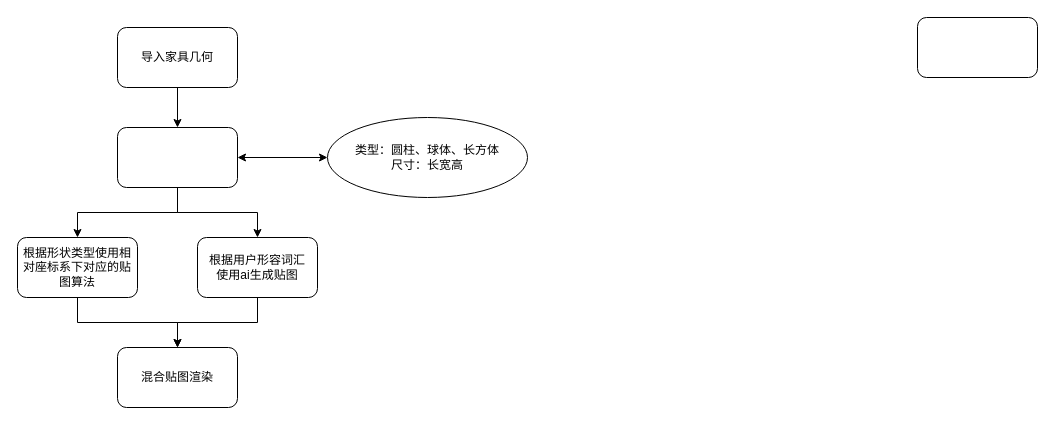
Image size: 1055x425. Some labels were removed from this diagram. Each missing label, with the box of its shape:
解析几何，得到装配体形状类型，尺寸: (116, 126, 238, 188)
解析家具几何: (916, 16, 1038, 78)
